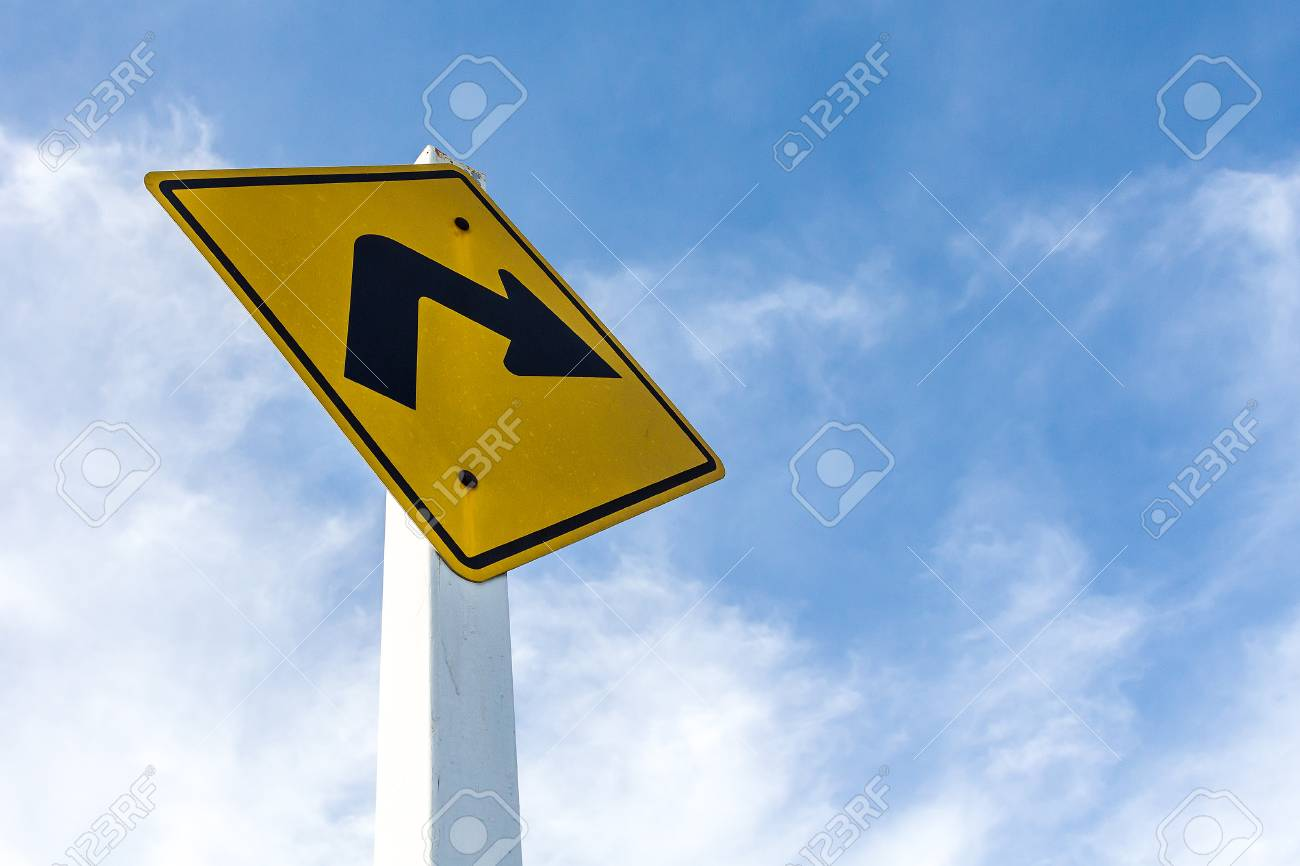right: (142, 160, 729, 585)
